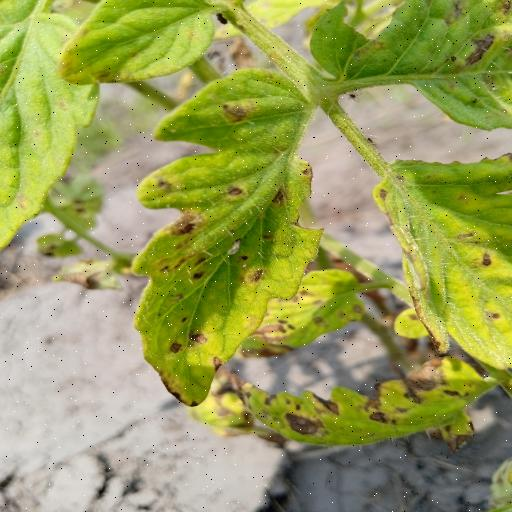Tomato_Brown_Spots: (127, 63, 316, 406)
